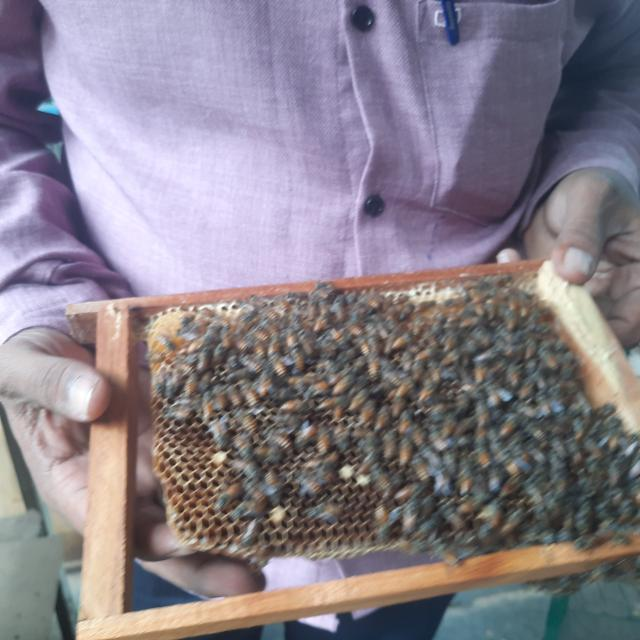honeybee: (290, 421, 320, 452), (316, 448, 341, 484), (265, 428, 291, 459), (292, 474, 326, 497), (400, 500, 423, 532), (208, 416, 230, 449), (240, 513, 262, 546), (392, 478, 426, 499), (214, 484, 240, 511), (313, 396, 343, 419), (306, 504, 342, 523), (234, 434, 256, 464), (409, 450, 430, 480), (344, 385, 369, 409), (252, 442, 278, 465), (391, 326, 414, 352), (398, 434, 416, 467), (289, 340, 308, 371), (355, 397, 375, 426), (264, 467, 282, 499), (236, 408, 259, 432), (248, 483, 267, 511), (364, 356, 386, 379), (279, 396, 310, 412), (306, 378, 333, 396), (440, 346, 463, 366), (299, 328, 316, 355), (270, 354, 286, 382), (374, 503, 391, 529), (373, 406, 388, 434), (314, 428, 330, 454), (415, 345, 441, 361), (498, 418, 516, 441), (165, 405, 189, 422), (396, 302, 416, 322), (252, 378, 274, 396), (182, 372, 198, 396), (226, 385, 242, 409), (165, 374, 180, 399), (333, 375, 352, 394), (473, 358, 488, 382), (471, 348, 496, 362), (194, 349, 209, 372), (241, 356, 262, 372), (376, 471, 390, 495), (242, 389, 256, 412), (235, 336, 258, 350), (477, 443, 491, 466), (253, 323, 270, 341), (212, 384, 223, 411), (357, 336, 371, 357), (416, 299, 438, 312), (194, 313, 211, 328), (390, 374, 404, 391), (264, 309, 278, 324), (253, 343, 266, 359), (204, 395, 212, 418), (365, 296, 379, 309)
